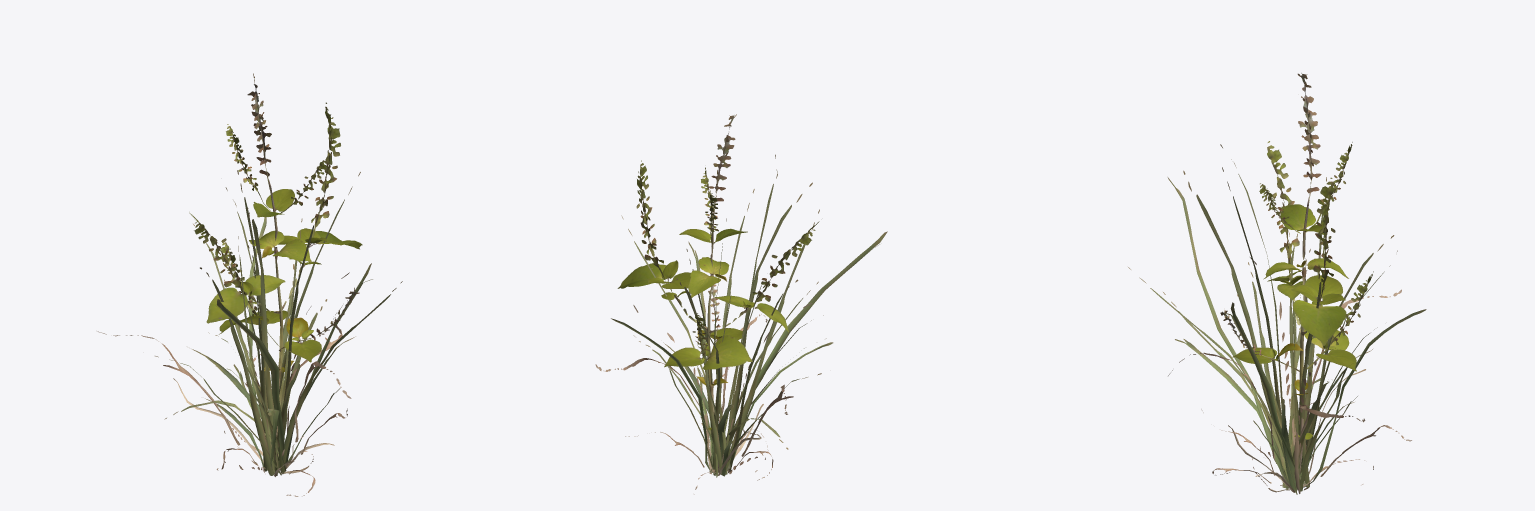
Rendered from natural-bank-native-v1.glb.
3 views of the same model, side by side, from view 1: azimuth 30°, elevation 25°; view 2: azimuth 150°, elevation 25°; view 3: azimuth 270°, elevation 25° (orthographic). The views are drawn at different scales.
Visible parts, largest first — view 1: grass_medium_02_e, shrub_03_b; view 2: grass_medium_02_e, shrub_03_b; view 3: grass_medium_02_e, shrub_03_b.
Part boxes in pixels (x1,y1,x2,y2): grass_medium_02_e: (97, 170, 402, 496); shrub_03_b: (189, 73, 362, 434); grass_medium_02_e: (595, 154, 887, 494); shrub_03_b: (617, 114, 819, 472); grass_medium_02_e: (1128, 144, 1426, 494); shrub_03_b: (1220, 73, 1373, 474).
Size of the model in its own units: 0.3556 by 0.4032 by 0.4332.
2 materials, 2 textured.
